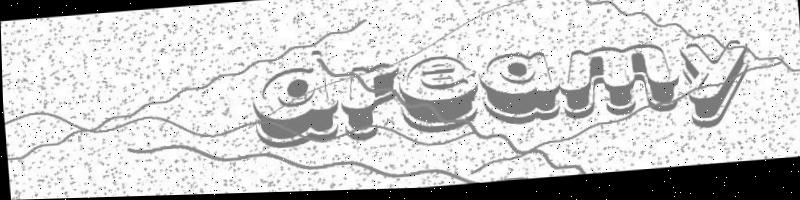a: (477, 50, 560, 130)
d: (246, 46, 343, 151)
e: (399, 55, 482, 140)
m: (556, 42, 683, 127)
r: (338, 60, 404, 142)
y: (678, 40, 752, 136)
